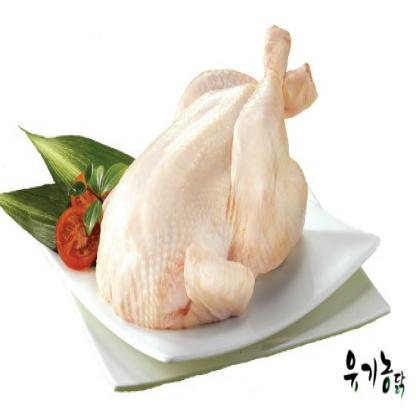chicken: (76, 19, 335, 346)
